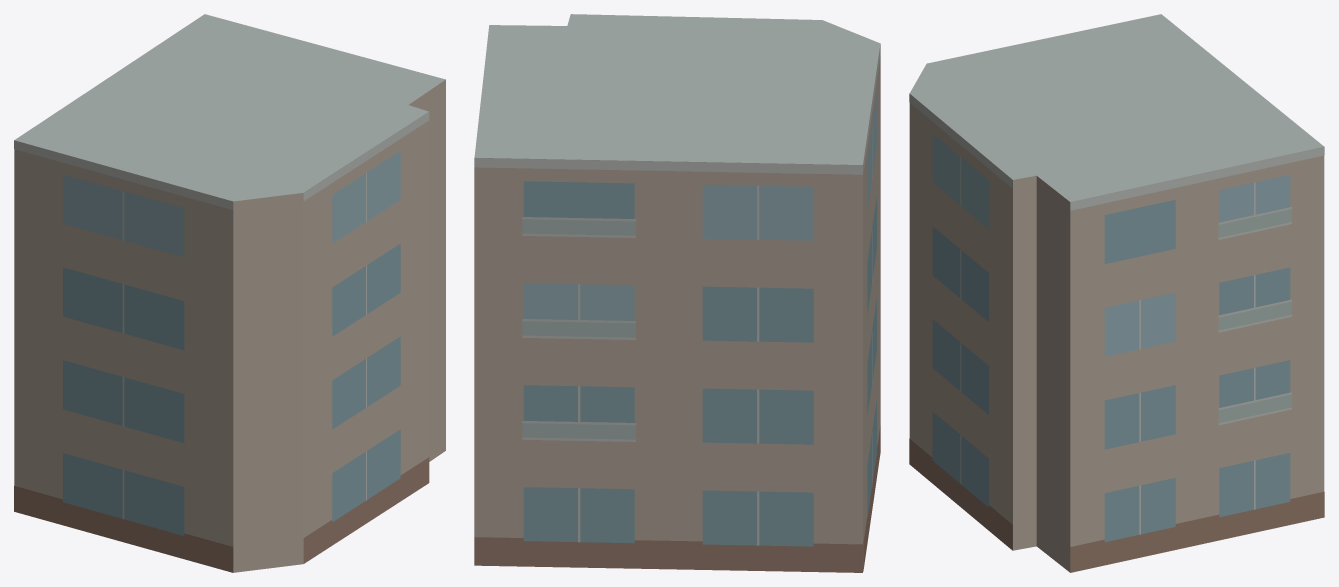
The model's file is survey-upis-32829083.glb.
The picture shows the model from 3 angles, left to right: view 1: azimuth 30°, elevation 25°; view 2: azimuth 150°, elevation 25°; view 3: azimuth 270°, elevation 25°; orthographic projection. The views are drawn at different scales.
Visible parts, largest first — view 1: survey-upis-32829083.tmp; view 2: survey-upis-32829083.tmp; view 3: survey-upis-32829083.tmp.
Boxes of the visible parts, x1=… form: survey-upis-32829083.tmp: x1=14, y1=14, x2=445, y2=572; survey-upis-32829083.tmp: x1=474, y1=14, x2=880, y2=572; survey-upis-32829083.tmp: x1=909, y1=14, x2=1324, y2=572.
Size of the model in its own units: 11.22 by 10.3 by 10.46.
